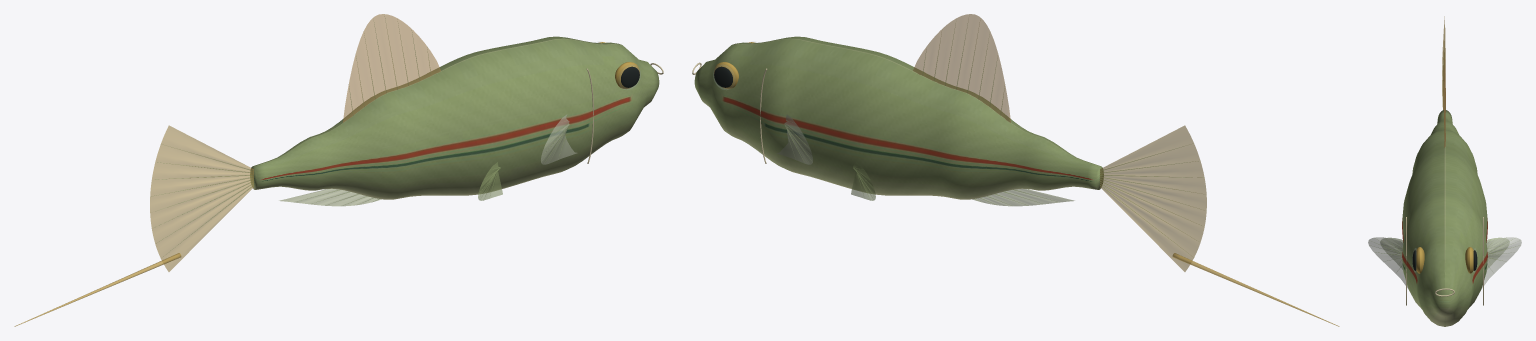
The model's file is swordtail-mobile.glb.
3 views of the same model, side by side, from view 1: azimuth 30°, elevation 25°; view 2: azimuth 150°, elevation 25°; view 3: azimuth 270°, elevation 25° (orthographic). The views are drawn at different scales.
Visible parts, largest first — view 1: skin, tail, dorsal, dorsal-ray, anal, pectoral-right, sword-extension, pelvic-right; view 2: skin, tail, dorsal, dorsal-ray, anal, pectoral-left, sword-extension, pelvic-left; view 3: skin, pectoral-left, pectoral-right, eye-iris--1, pelvic-left, pelvic-right, operculum, tail, dorsal-ray, dorsal, eye-pupil--1.
Boxes of the visible parts, <box> form: skin: <box>250,36,659,199</box>; tail: <box>150,125,253,271</box>; dorsal: <box>343,14,440,122</box>; dorsal-ray: <box>154,14,569,256</box>; anal: <box>279,188,381,206</box>; pectoral-right: <box>541,114,576,164</box>; sword-extension: <box>14,253,181,326</box>; pelvic-right: <box>478,162,502,200</box>; skin: <box>694,36,1103,199</box>; tail: <box>1100,125,1206,271</box>; dorsal: <box>913,14,1010,122</box>; dorsal-ray: <box>784,25,1203,243</box>; anal: <box>972,188,1074,206</box>; pectoral-left: <box>777,114,812,164</box>; sword-extension: <box>1172,253,1339,326</box>; pelvic-left: <box>851,162,875,200</box>; skin: <box>1402,110,1487,326</box>; pectoral-left: <box>1481,237,1521,288</box>; pectoral-right: <box>1368,237,1408,288</box>; eye-iris--1: <box>1416,247,1473,273</box>; pelvic-left: <box>1487,237,1509,269</box>; pelvic-right: <box>1380,237,1402,269</box>; operculum: <box>1406,217,1483,305</box>; tail: <box>1442,16,1445,109</box>; dorsal-ray: <box>1374,62,1515,271</box>; dorsal: <box>1444,58,1445,147</box>; eye-pupil--1: <box>1412,250,1477,270</box>.
Bounding box in the file's own units: 0.7694 × 0.255 × 0.1719.
Materials: 11 (1 with a texture image).
